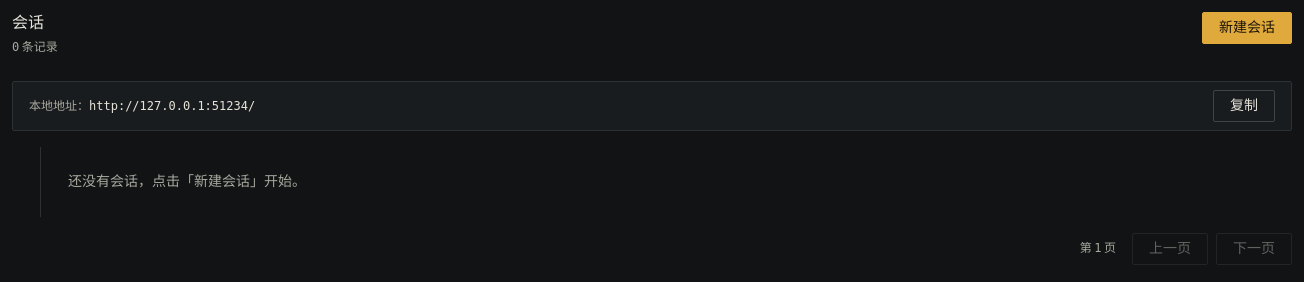
Test case: SessionsListView 本地地址（#237 / D5-AC2） › 「复制」把实际地址写进剪贴板
The image size is (1304, 282).
Click the button "复制": (1244, 106) [1213,90,1275,122]
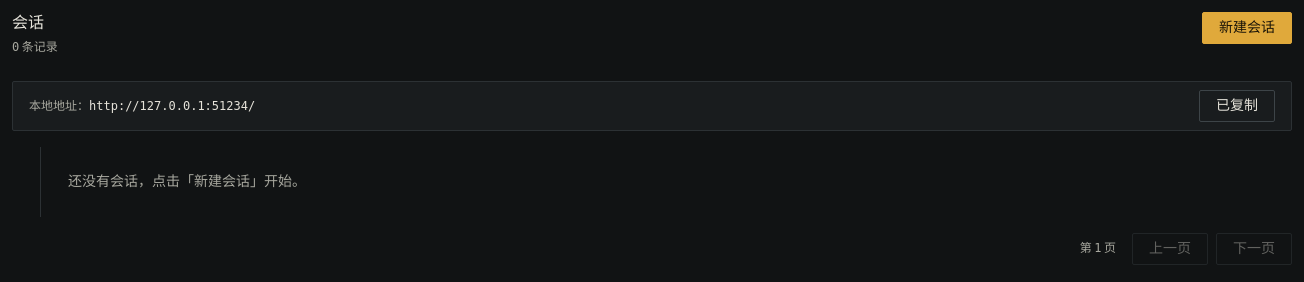
expect the element with class "local-address" shows "已复制": met, box [1199,90,1275,122]
